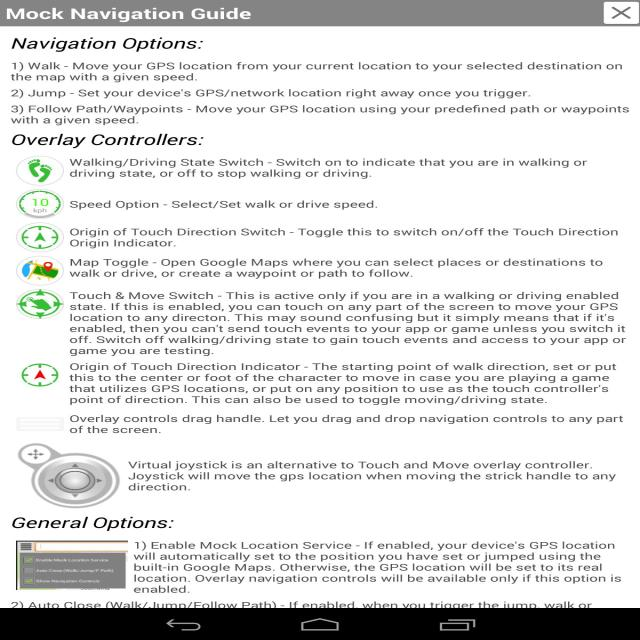button: (604, 1, 640, 24)
heading: (6, 6, 256, 23), (10, 34, 216, 53), (6, 132, 213, 150), (7, 514, 181, 535)
image: (0, 439, 118, 509), (16, 540, 127, 590), (5, 190, 64, 221), (5, 291, 68, 320), (5, 362, 68, 390), (9, 158, 67, 188), (6, 256, 64, 285), (8, 222, 66, 250)
text: (68, 158, 640, 442), (6, 59, 636, 128), (130, 536, 640, 608), (115, 453, 638, 499)
